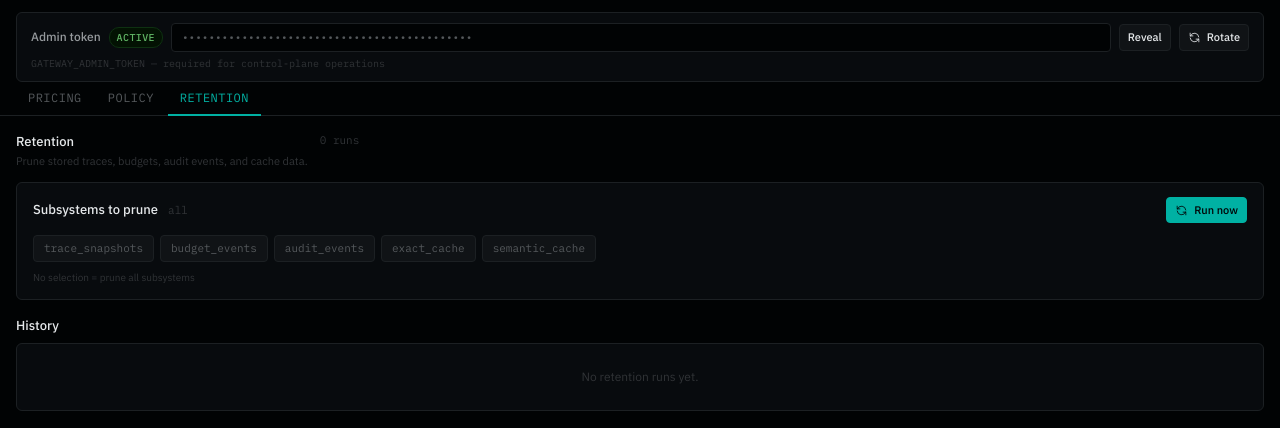
Test: AdminView admin token panel › masks the token by default and reveals on click
The image size is (1280, 428).
Expected: the text "super-secret-token-123" is not shown
What coordinates should you click on to do the following:
click the button "Reveal"
I would click on:
 (1145, 37)
Its box is [1119,24,1171,50].
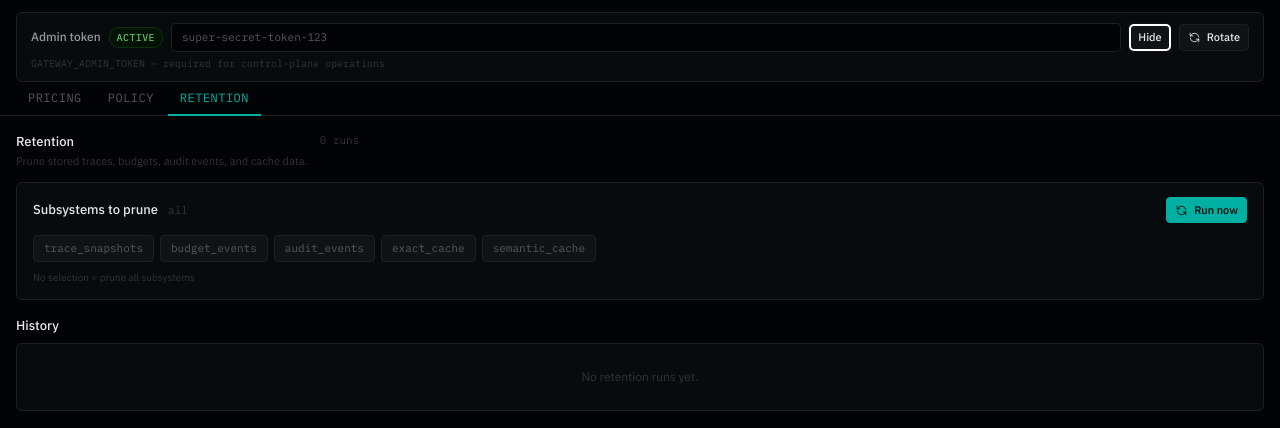
Expected: the text "super-secret-token-123" is shown, [171,23,1121,52]
